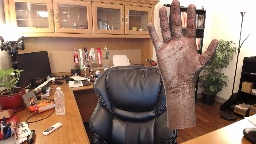Mano_aperta: (142, 0, 220, 89)
